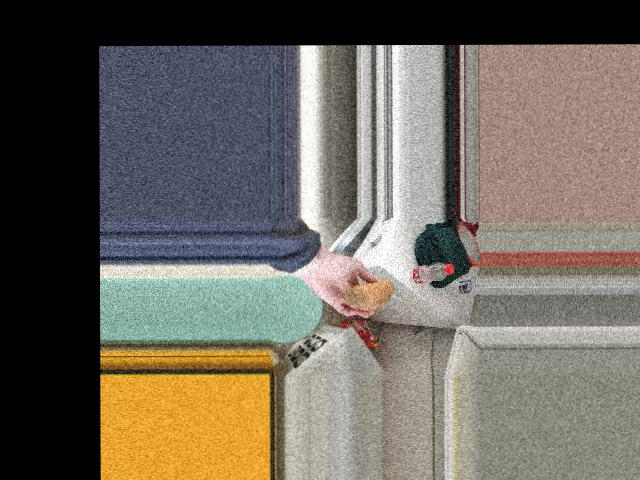sweet_potato: (338, 283, 395, 308)
